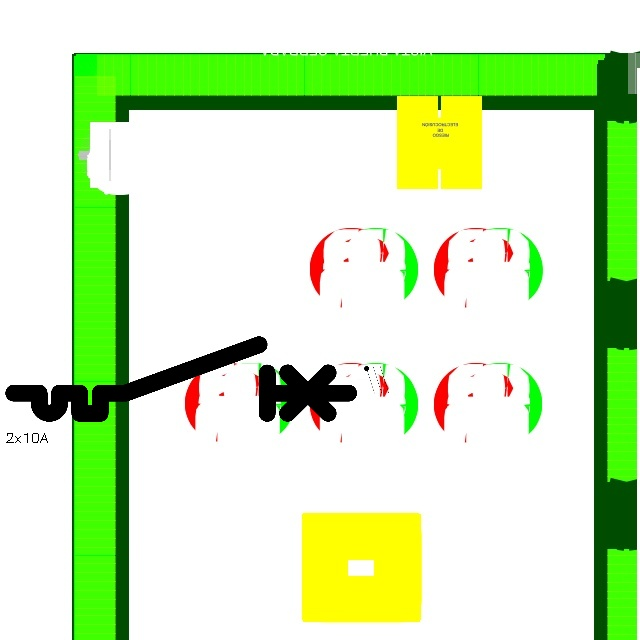interruptor_termomagnetico: (5, 336, 357, 422)
